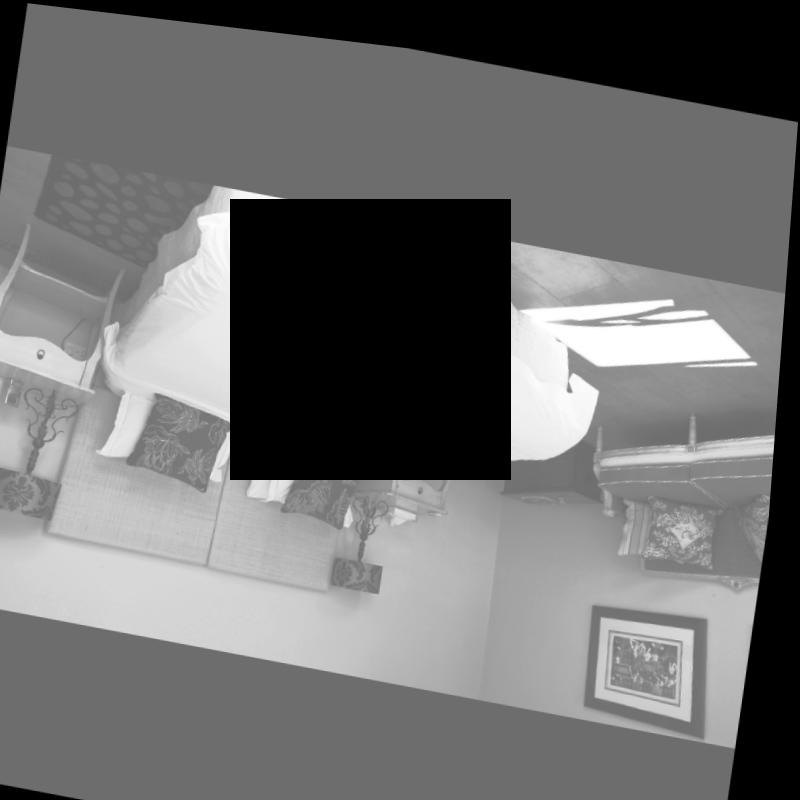pillow: (104, 385, 235, 478), (259, 440, 360, 515), (290, 432, 371, 523), (651, 472, 730, 553), (621, 468, 666, 545), (728, 470, 776, 539), (251, 438, 277, 493)
